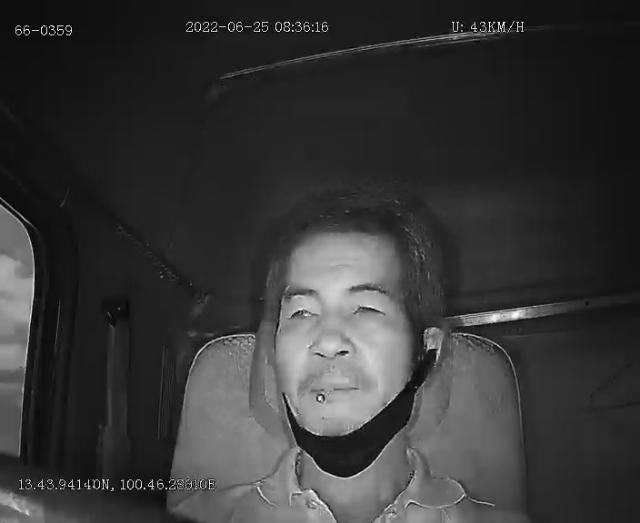SafeDriving: (343, 290, 392, 326), (281, 292, 324, 328)
Smoking: (314, 387, 326, 405)
